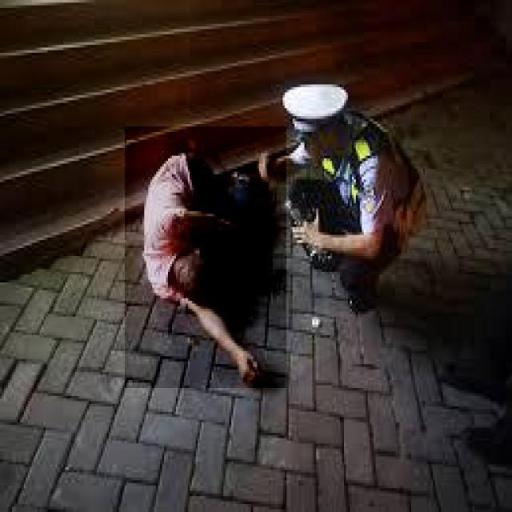Fall: (125, 126, 286, 388)
